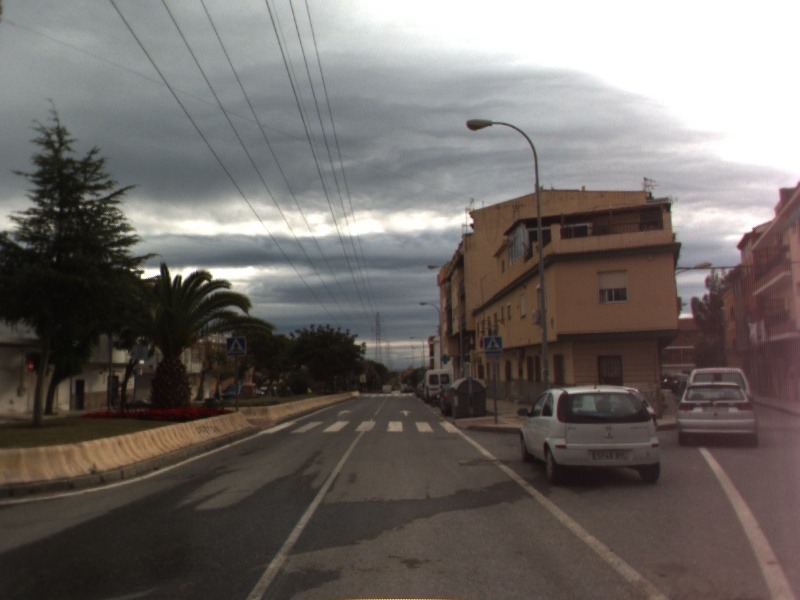STRAIGHT: (334, 407, 354, 418), (397, 407, 415, 418)
